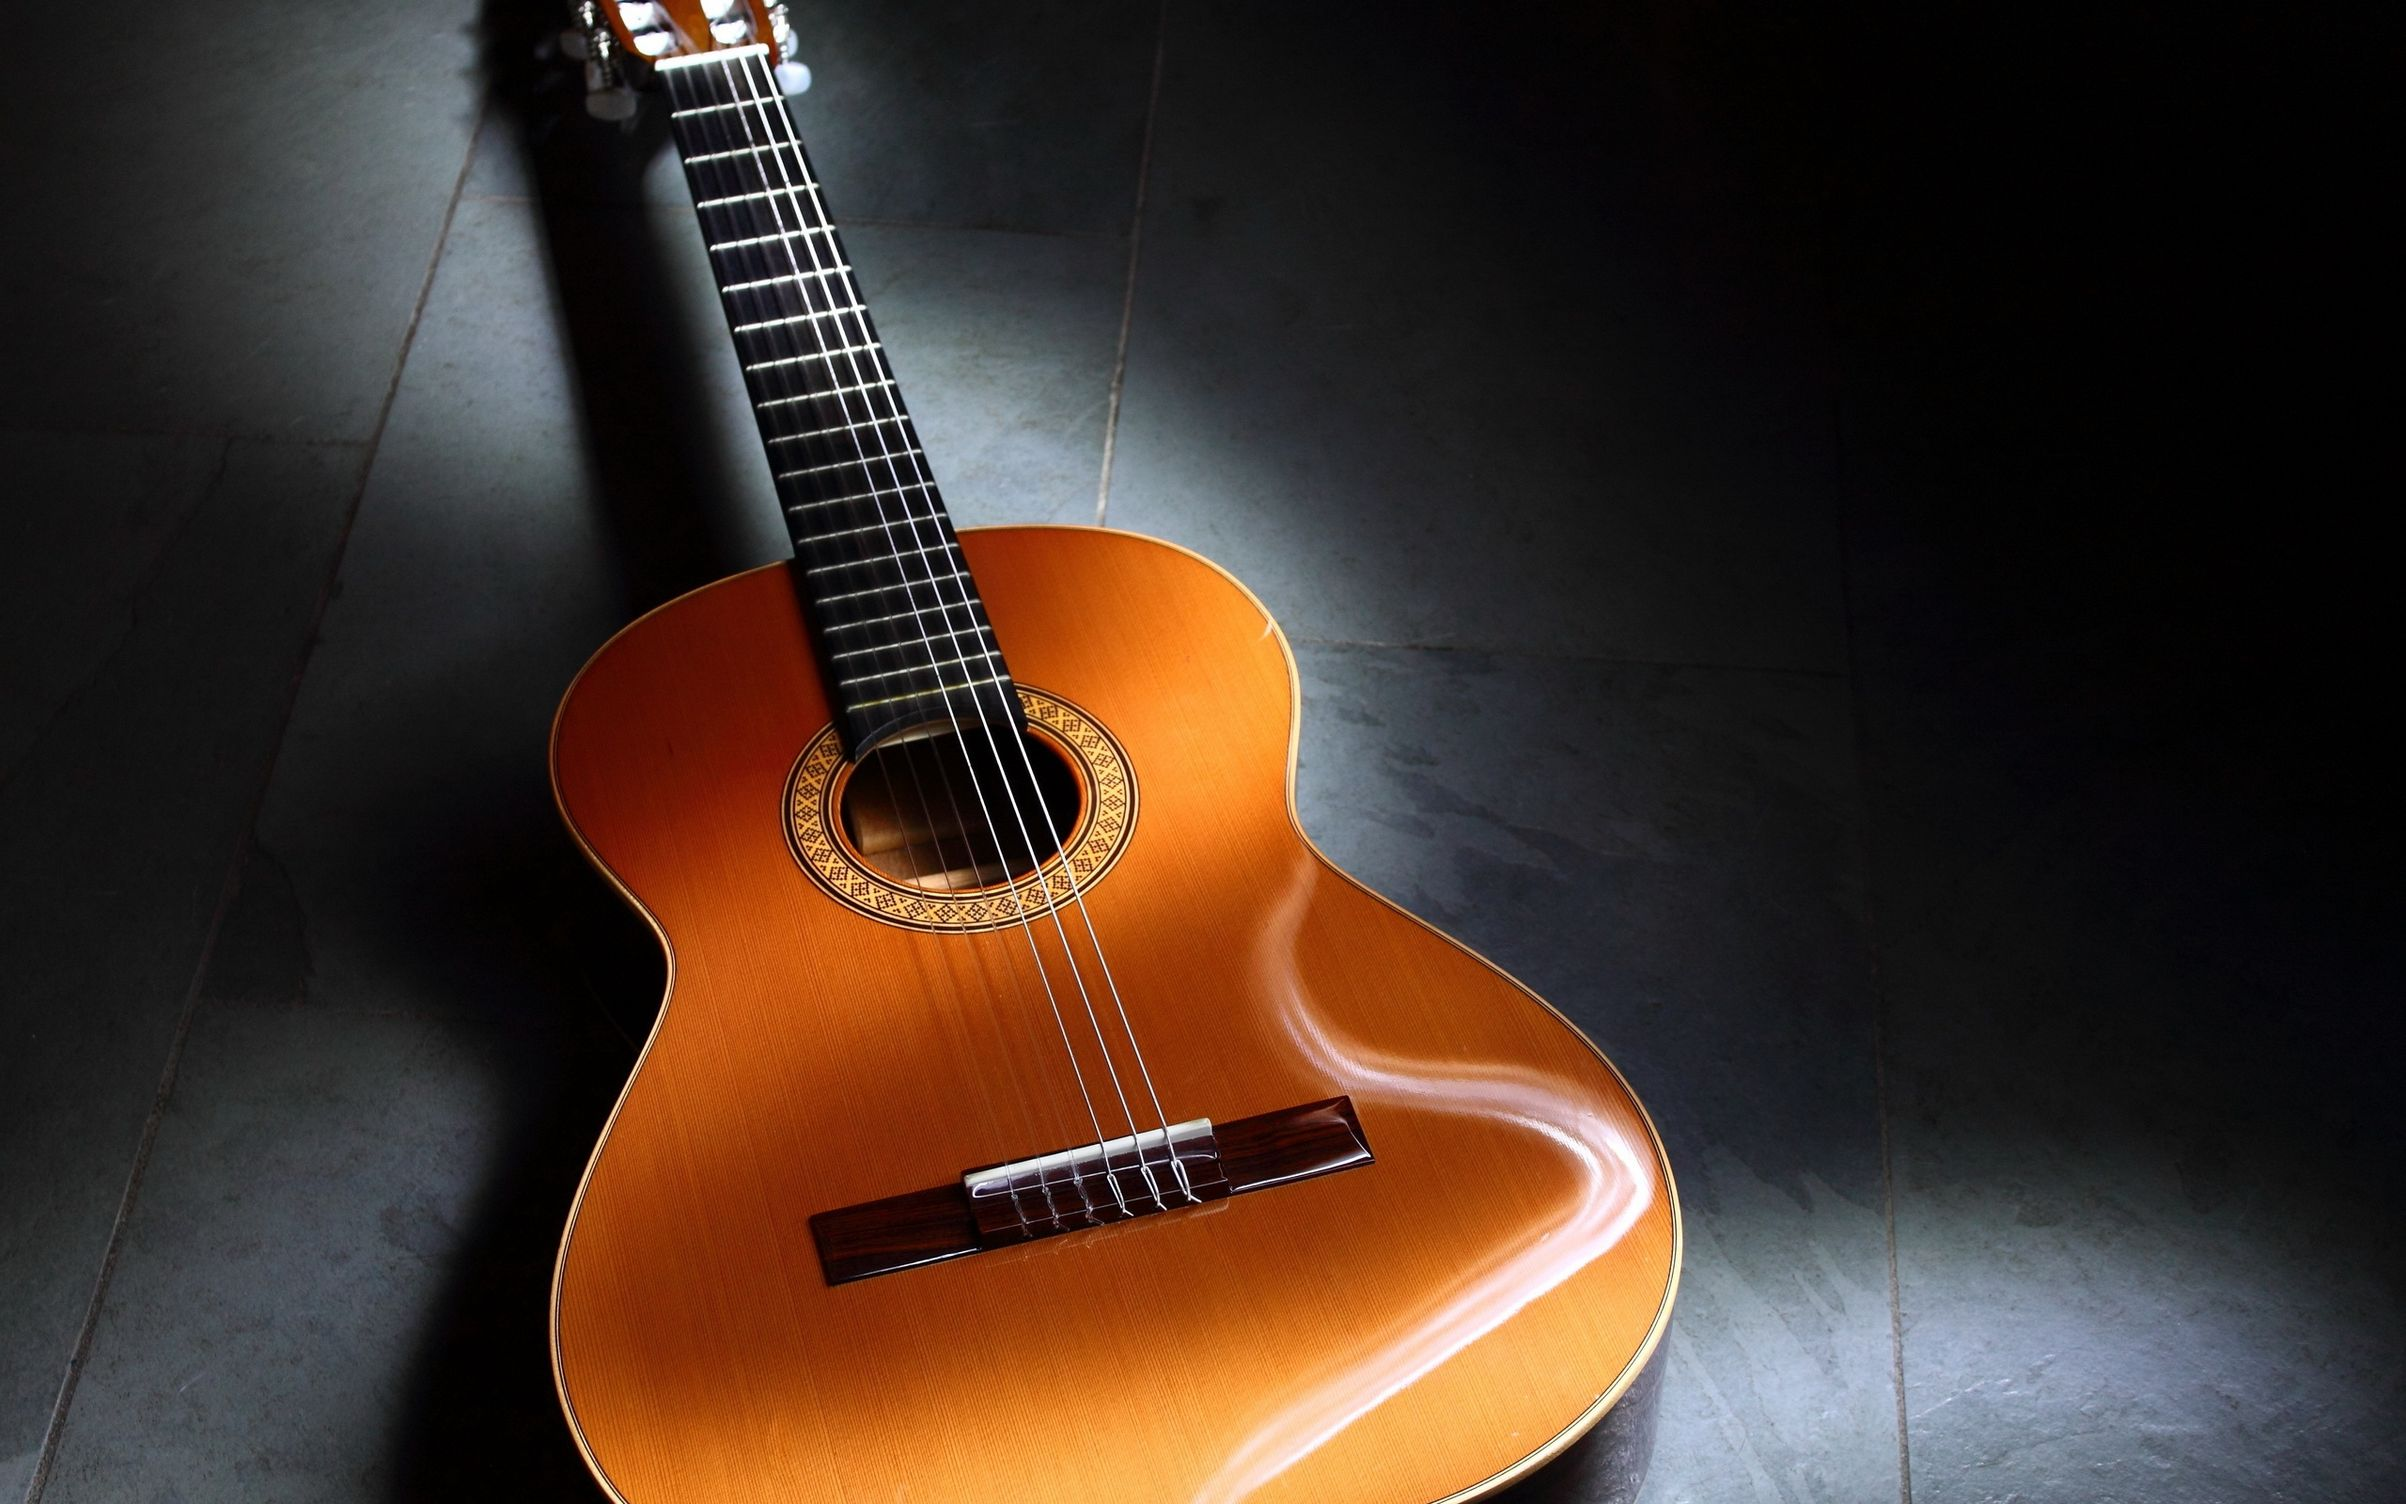0 classic: (516, 9, 1685, 1504)
